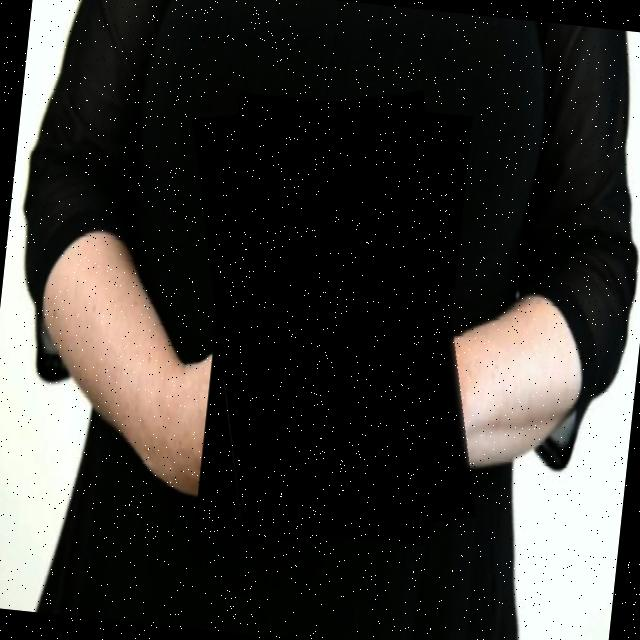T: (172, 81, 496, 558)
